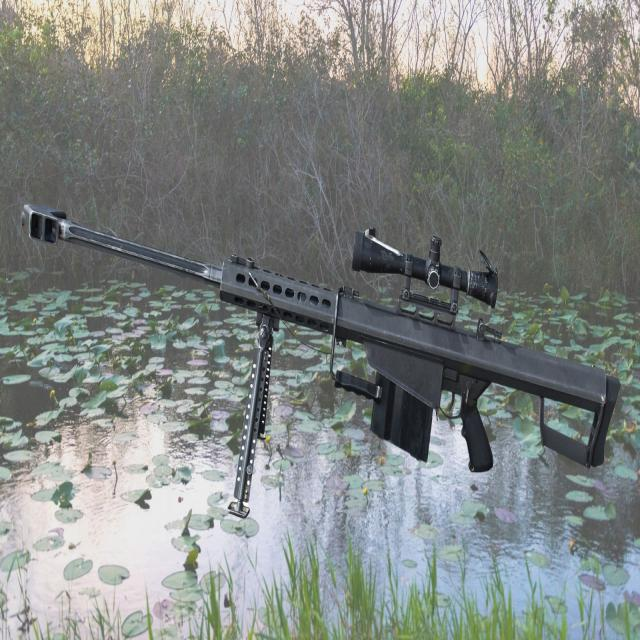Rifle: (27, 208, 620, 475)
